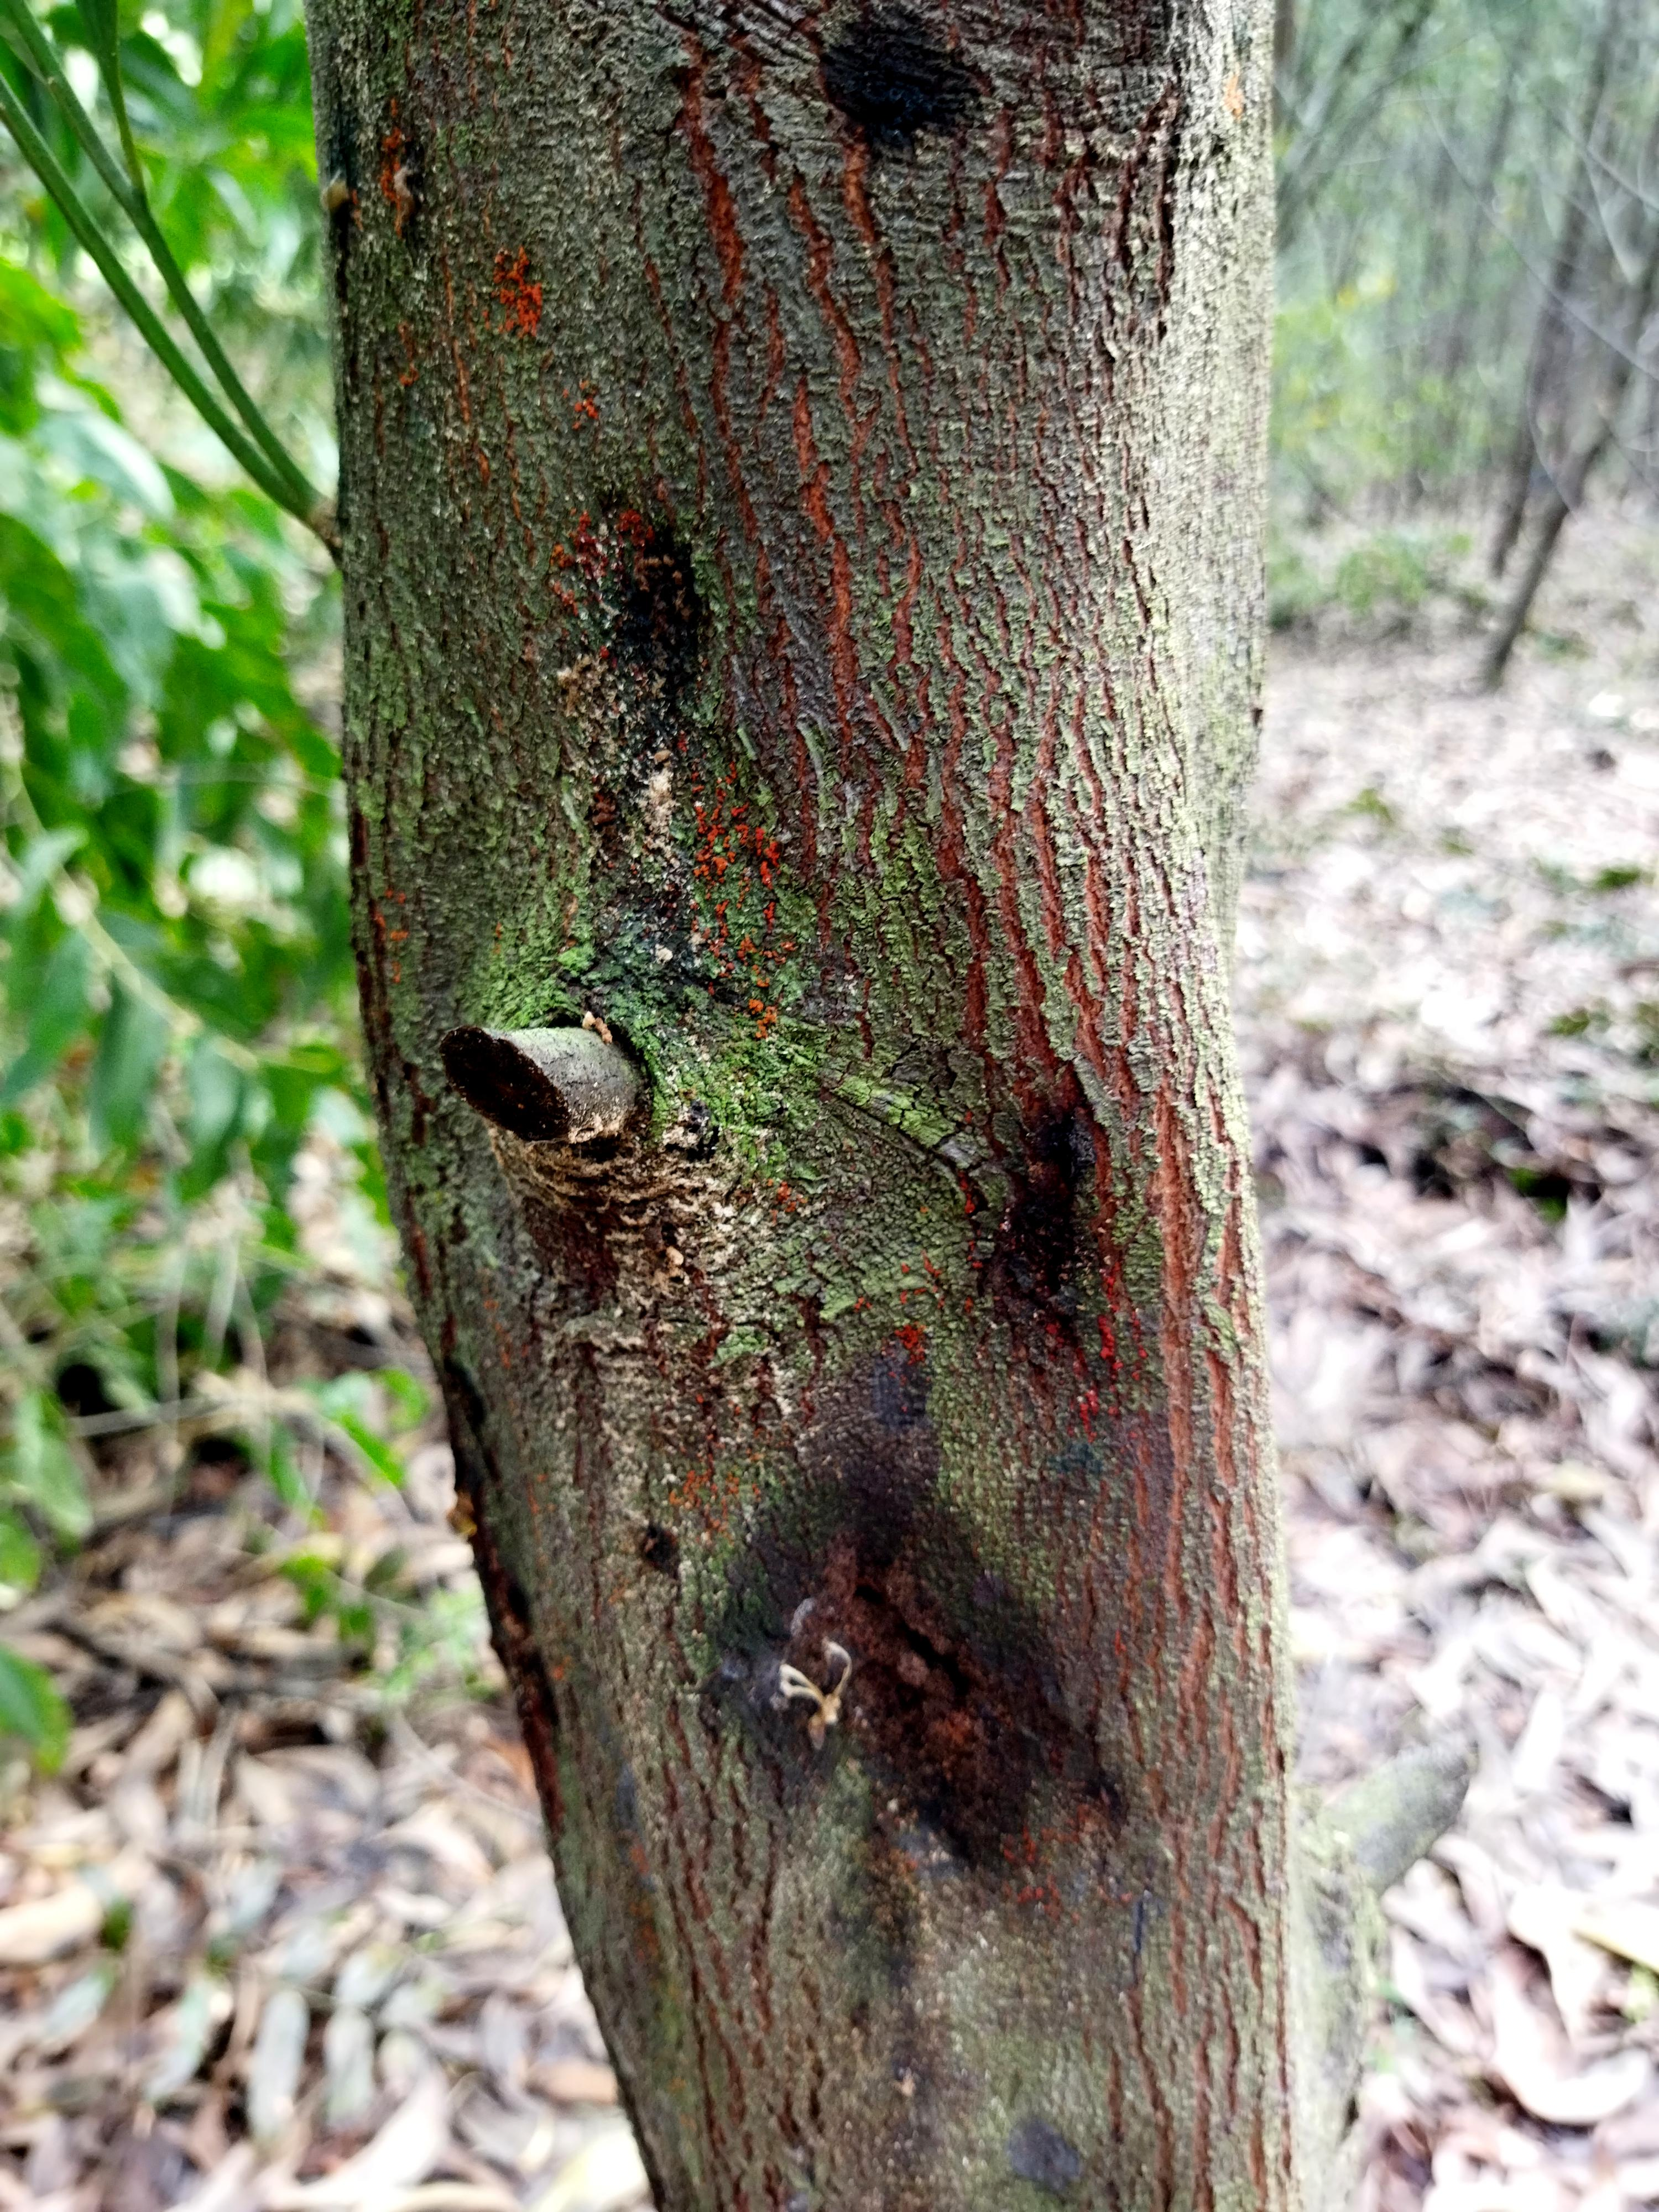Stem Borer: (781, 1522, 1094, 1867), (964, 1080, 1178, 1430), (554, 521, 779, 796), (786, 0, 1040, 216)
